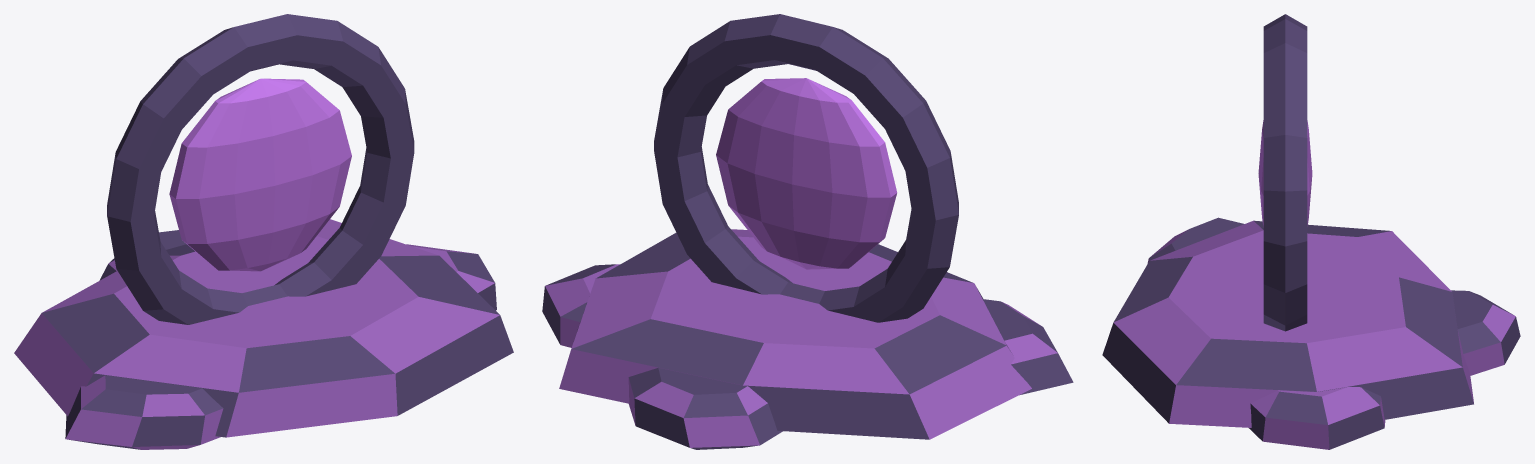
The model's file is BH_ORE_O11_Eclipse_Enjaulado_V01.glb.
The picture shows the model from 3 angles, left to right: view 1: azimuth 30°, elevation 25°; view 2: azimuth 150°, elevation 25°; view 3: azimuth 270°, elevation 25°; orthographic projection. The views are drawn at different scales.
Visible parts, largest first — view 1: Bedrock | primary.001, Enclosing stone / obsidian halo.001, Eclipse disk.001, Bedrock | shoulder 1.001, Bedrock | shoulder 2.001, Bedrock | shoulder 3.001; view 2: Bedrock | primary.001, Enclosing stone / obsidian halo.001, Eclipse disk.001, Bedrock | shoulder 3.001, Bedrock | shoulder 1.001, Bedrock | shoulder 2.001; view 3: Bedrock | primary.001, Enclosing stone / obsidian halo.001, Bedrock | shoulder 2.001, Bedrock | shoulder 3.001, Bedrock | shoulder 1.001, Eclipse disk.001.
Part boxes in pixels (x1,y1,x2,y2): Bedrock | primary.001: [14, 219, 513, 437]; Enclosing stone / obsidian halo.001: [107, 14, 414, 324]; Eclipse disk.001: [169, 78, 351, 271]; Bedrock | shoulder 1.001: [65, 375, 223, 449]; Bedrock | shoulder 2.001: [406, 244, 496, 310]; Bedrock | shoulder 3.001: [99, 230, 186, 280]; Bedrock | primary.001: [559, 229, 1031, 439]; Enclosing stone / obsidian halo.001: [654, 14, 958, 322]; Eclipse disk.001: [716, 78, 897, 269]; Bedrock | shoulder 3.001: [628, 367, 782, 449]; Bedrock | shoulder 1.001: [982, 299, 1073, 395]; Bedrock | shoulder 2.001: [542, 264, 619, 347]; Bedrock | primary.001: [1102, 220, 1473, 427]; Enclosing stone / obsidian halo.001: [1263, 14, 1307, 331]; Bedrock | shoulder 2.001: [1249, 387, 1385, 449]; Bedrock | shoulder 3.001: [1451, 290, 1520, 375]; Bedrock | shoulder 1.001: [1147, 217, 1243, 263]; Eclipse disk.001: [1258, 120, 1312, 227].
Bounding box in the file's own units: 2.63 × 1.86 × 2.17.
